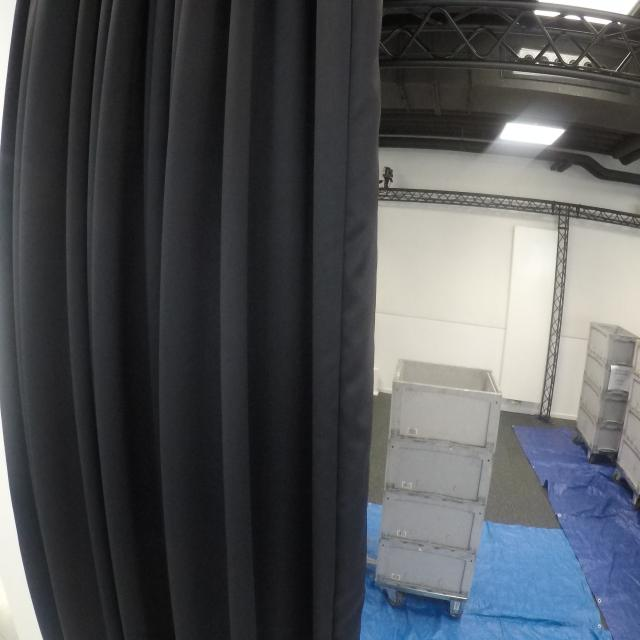Box4G: (389, 355, 511, 451), (382, 432, 502, 510), (380, 483, 487, 558), (373, 534, 478, 605)
